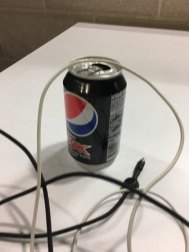can_black: (52, 42, 132, 172)
